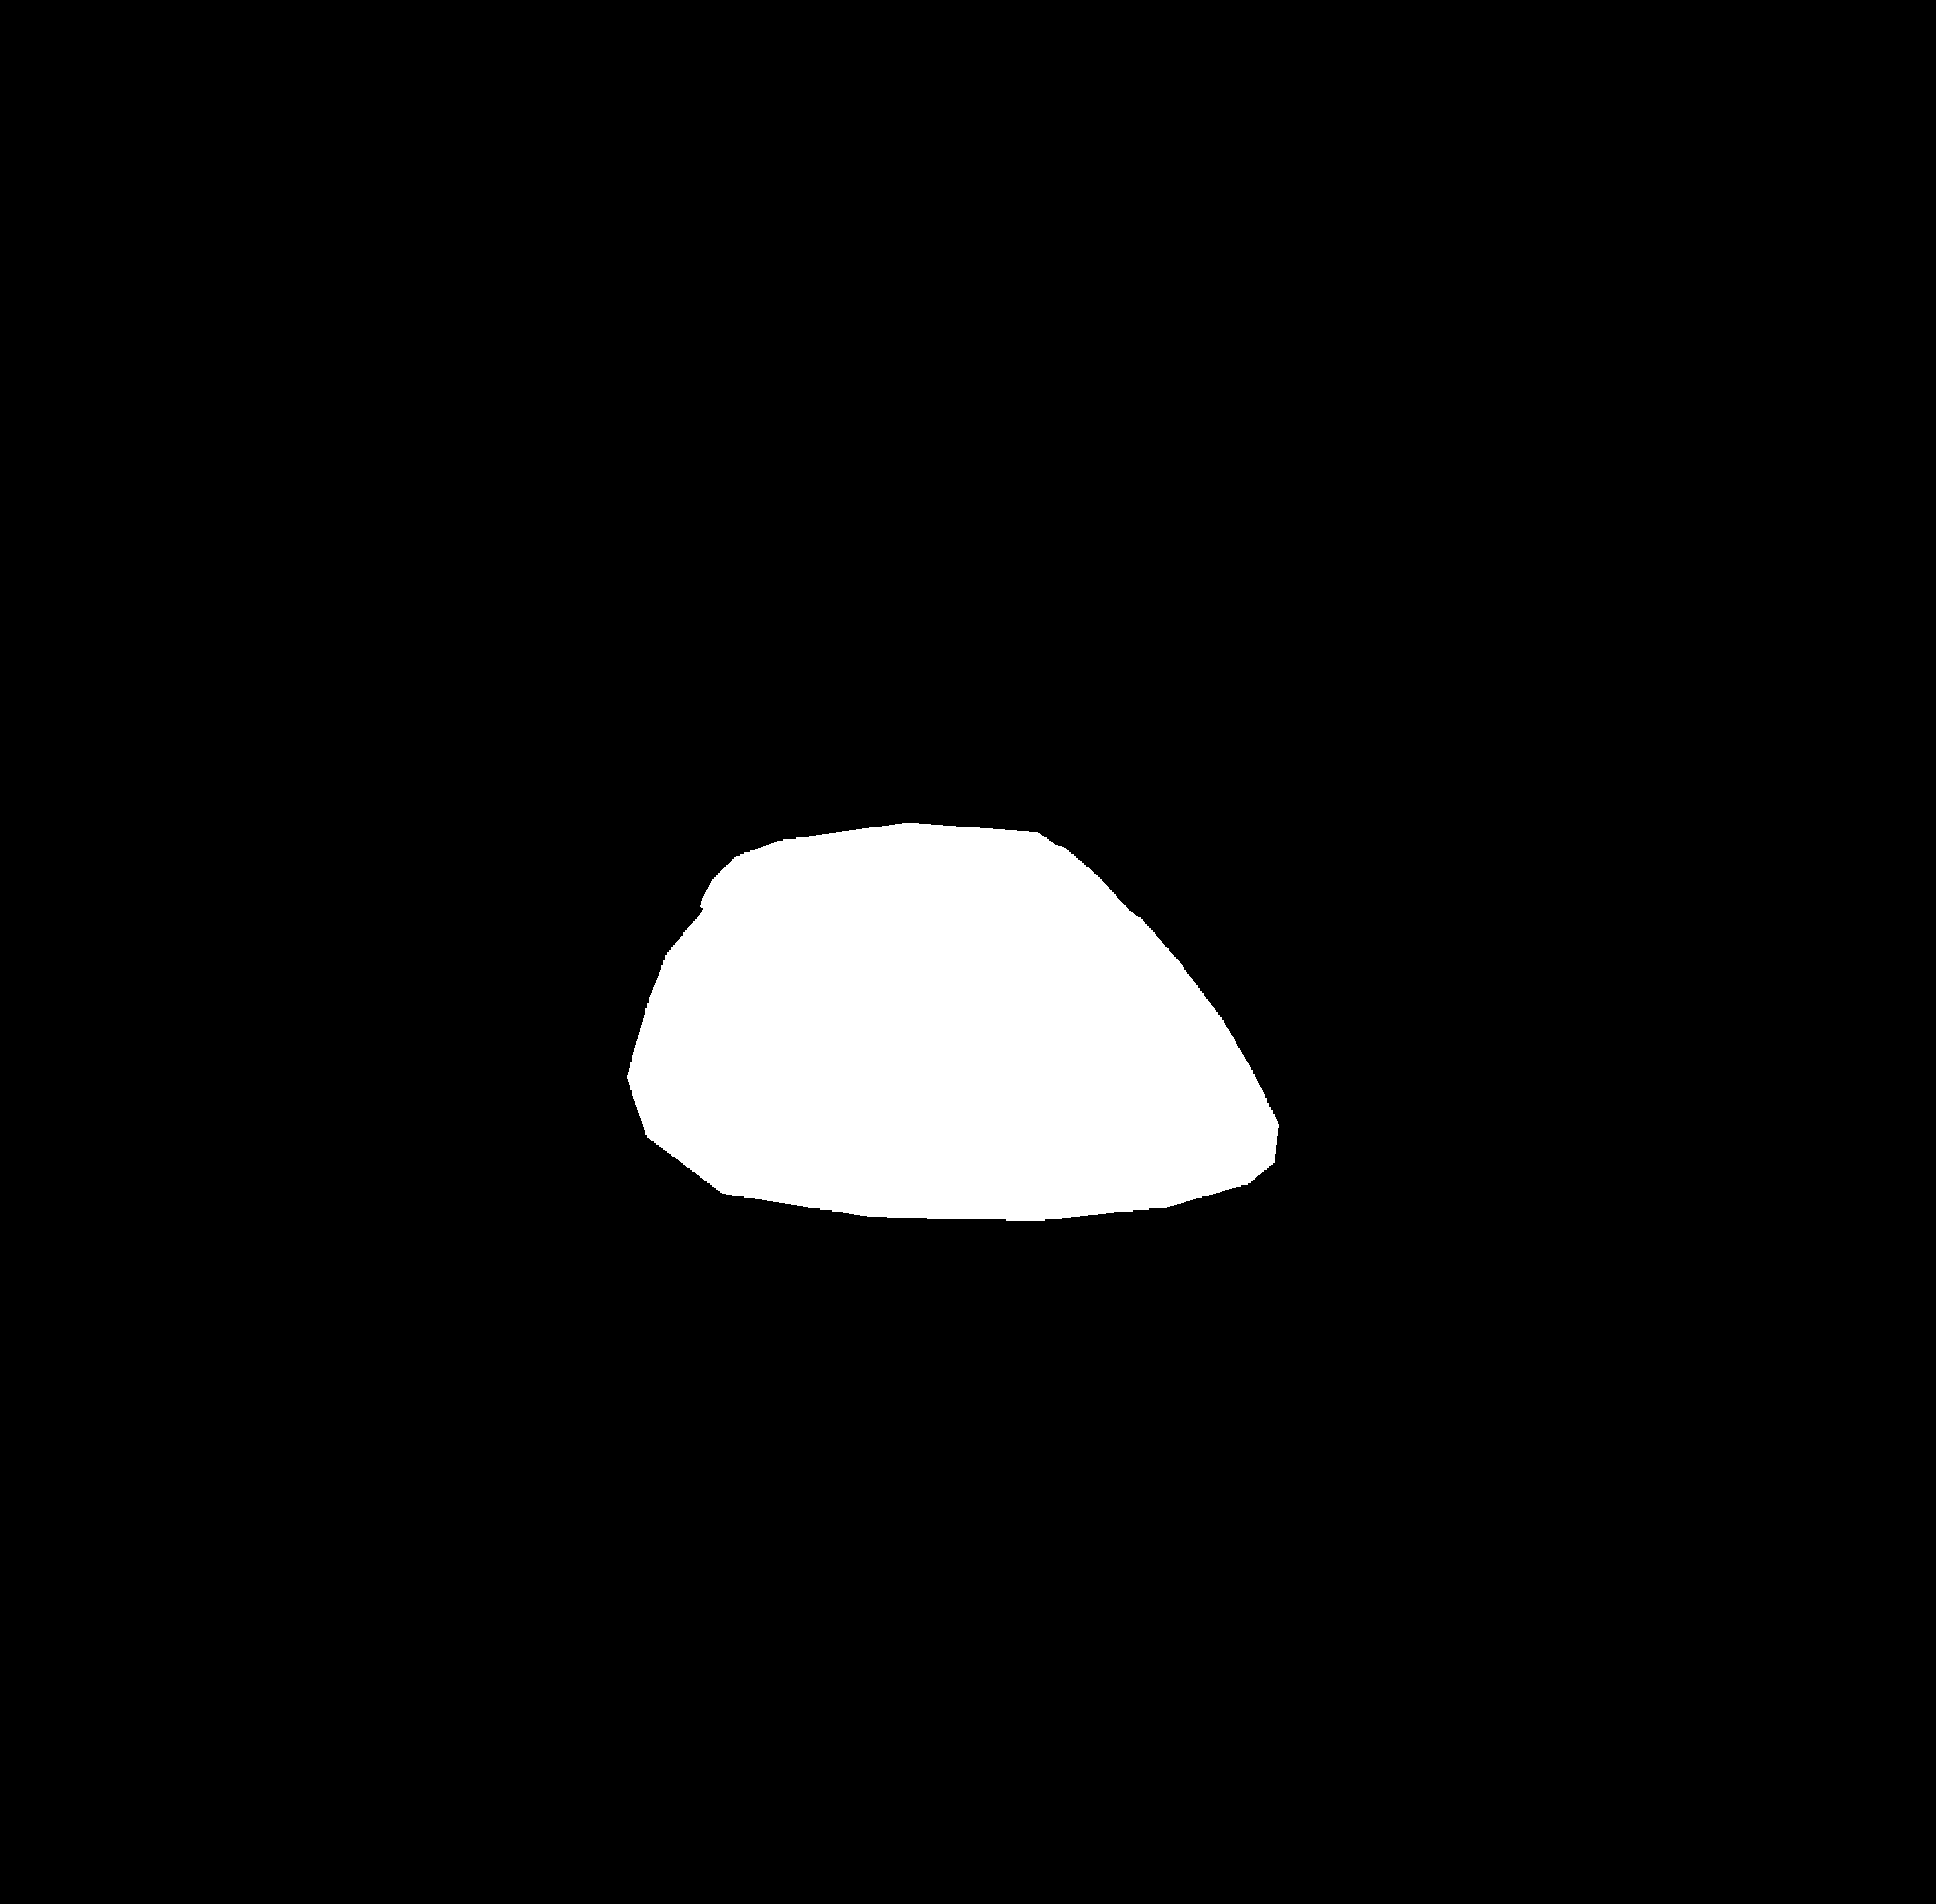heart: (628, 881, 1298, 1215)
left_lung: (178, 225, 846, 1276)
right_lung: (984, 251, 1549, 1302)
